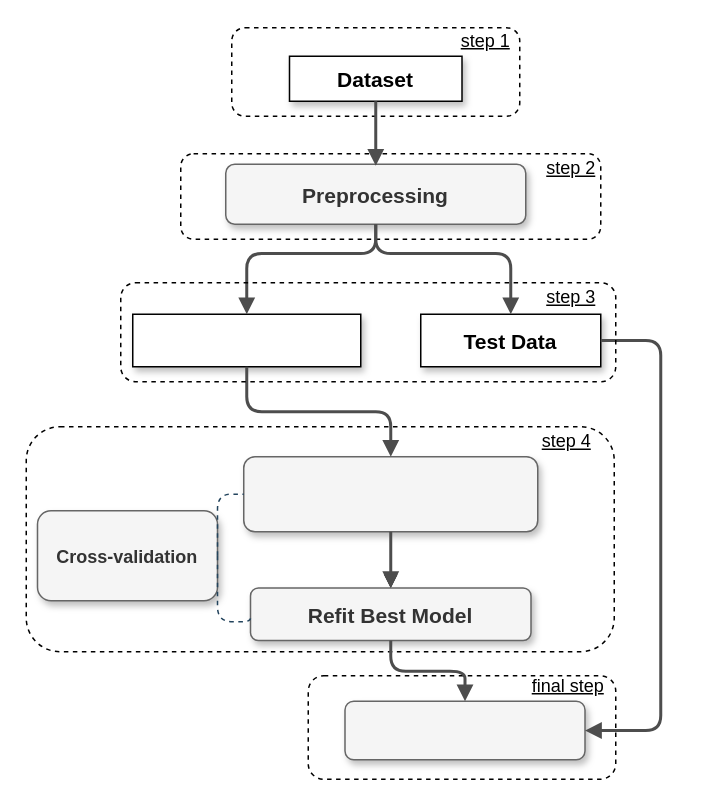
This 701x806 diagram has some shape labels left out. Each missing label, with the centre of its shape:
"Final Evaluation" belongs at [466,732].
"Hyperparameters Configuration" belongs at [391,495].
"Training Data" belongs at [247,342].
